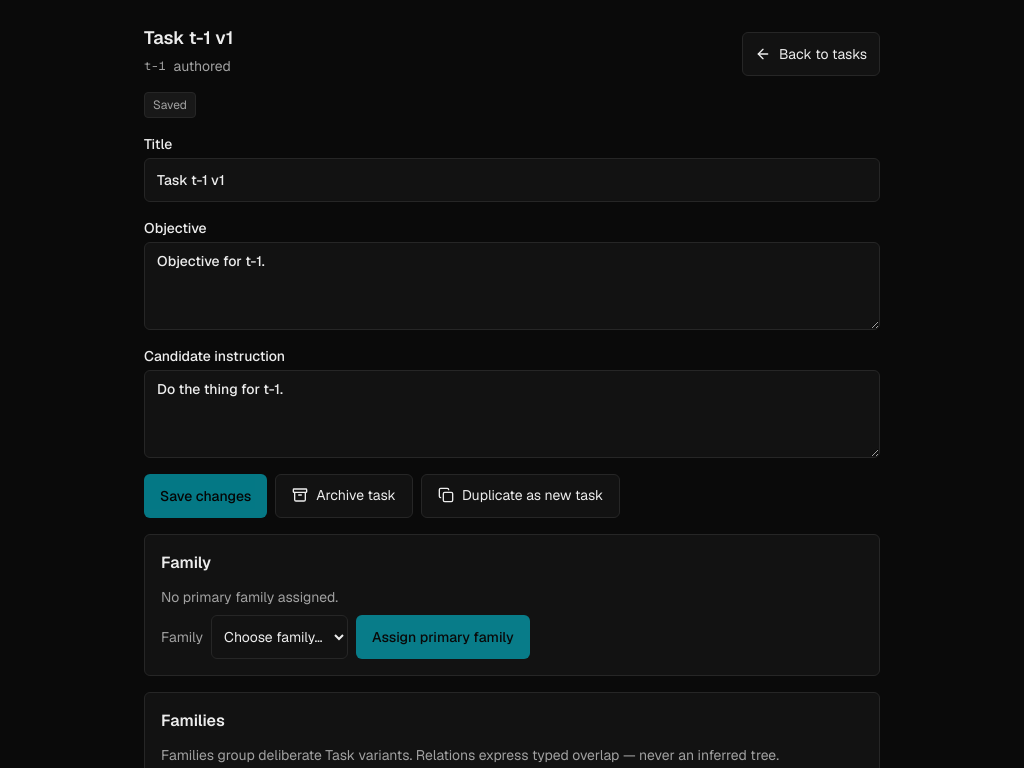
TaskDetailRoute — archive/restore with revision CAS (spec §4.5) › surfaces a stale-revision conflict on archive and recovers through reload
This screenshot has width=1024, height=768.
Click the button "Archive task" at (344, 496), box 275,474 -> 413,518
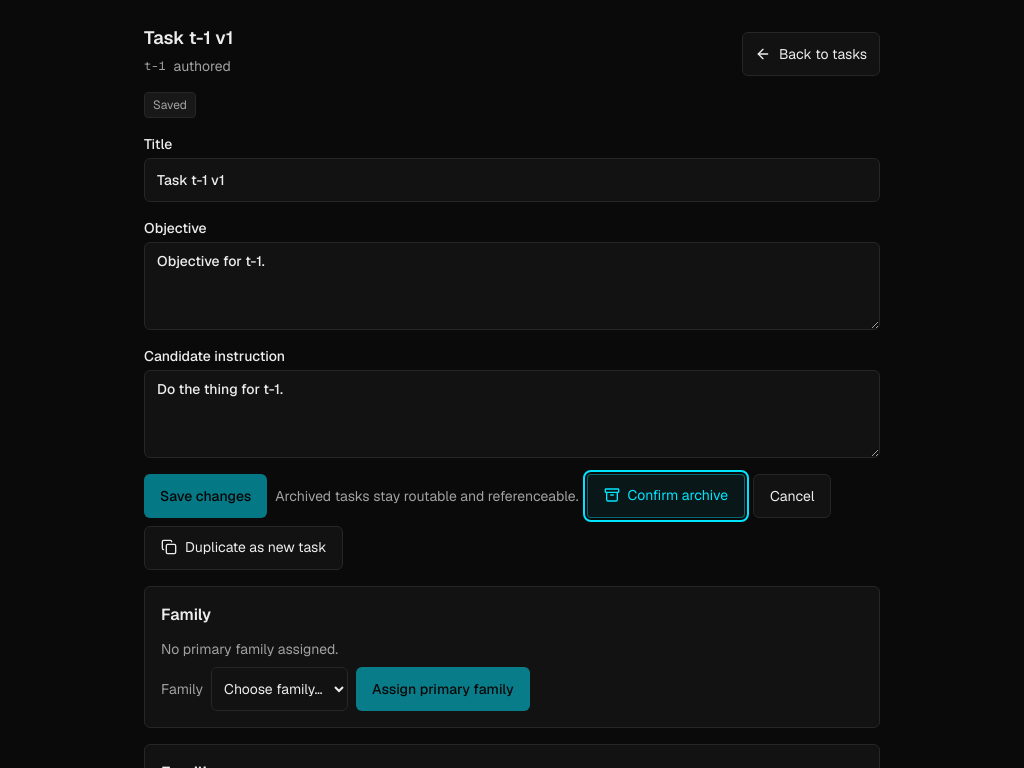
Click the button "Confirm archive" at (666, 496), box 586,474 -> 745,518
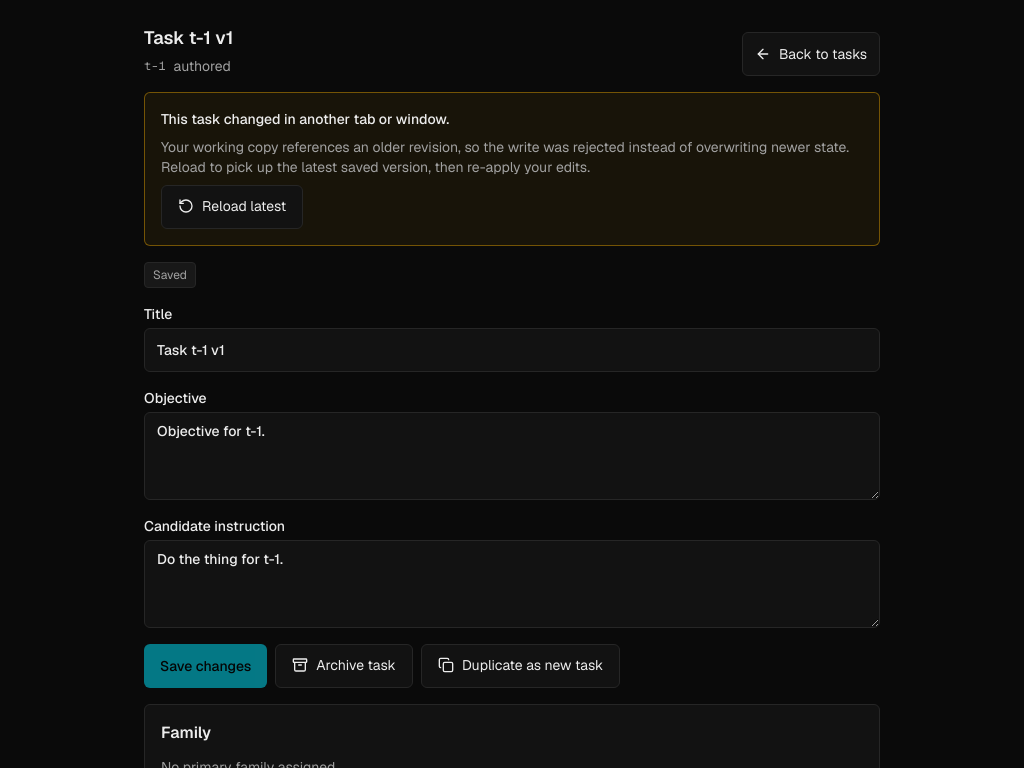
Expected: the button "Reload latest" is shown
Expected: the message is shown, 144,92 -> 880,246
Click the button "Reload latest" at (232, 207), box 161,185 -> 303,229
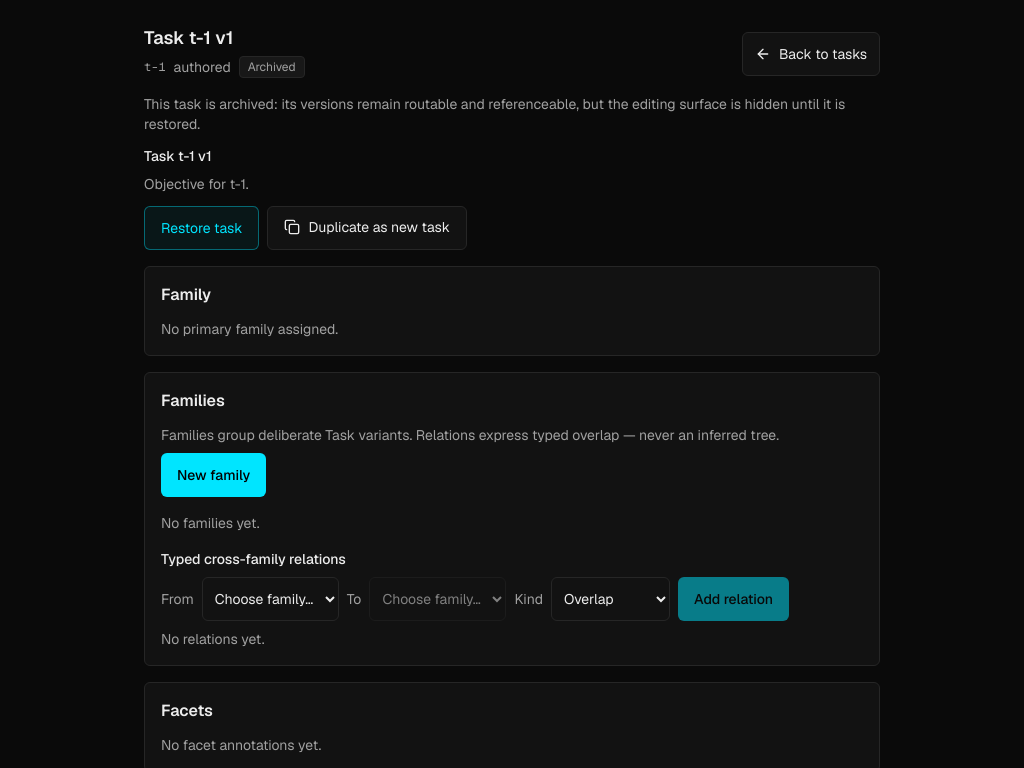
Expected: the button "Restore task" is shown, 144,206 -> 260,250
